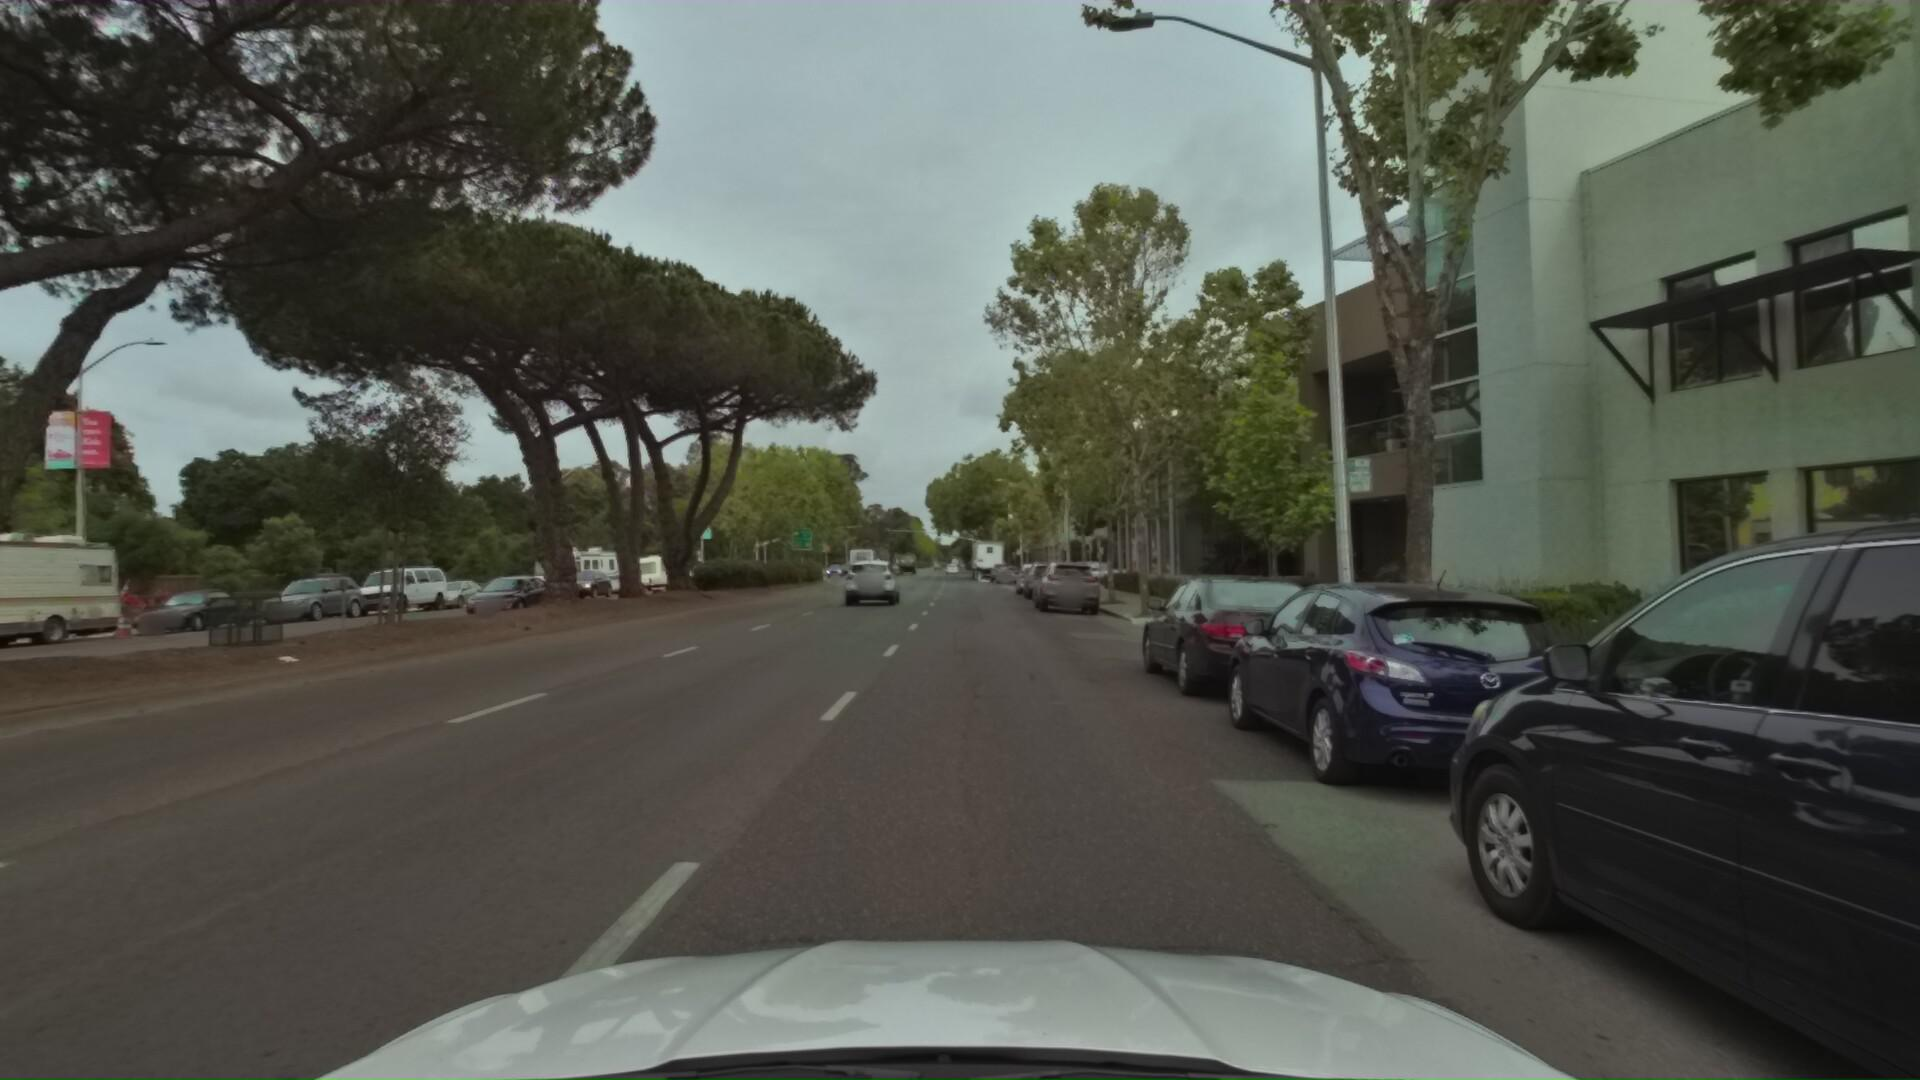car: (1408, 0, 1920, 1080), (1205, 575, 1683, 847), (1127, 571, 1375, 724), (109, 585, 252, 640), (237, 574, 365, 626), (335, 563, 450, 618), (440, 578, 549, 626), (1029, 556, 1102, 615), (833, 556, 899, 608), (1036, 556, 1135, 587), (407, 579, 485, 612), (1018, 556, 1068, 600), (549, 570, 608, 601), (1011, 560, 1055, 597), (993, 562, 1019, 583), (988, 559, 1011, 582)
other_vehicle: (0, 524, 152, 669), (517, 538, 621, 603), (626, 551, 682, 589)
